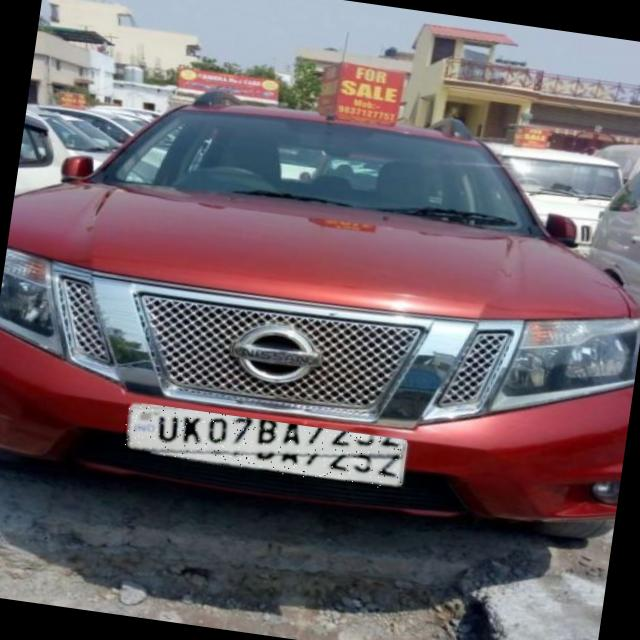Plate: (122, 402, 408, 492)
